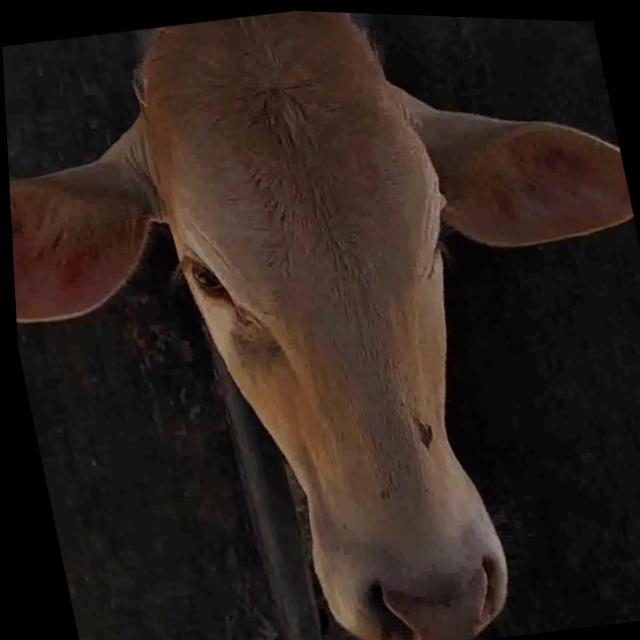cowFace: (118, 3, 523, 640)
